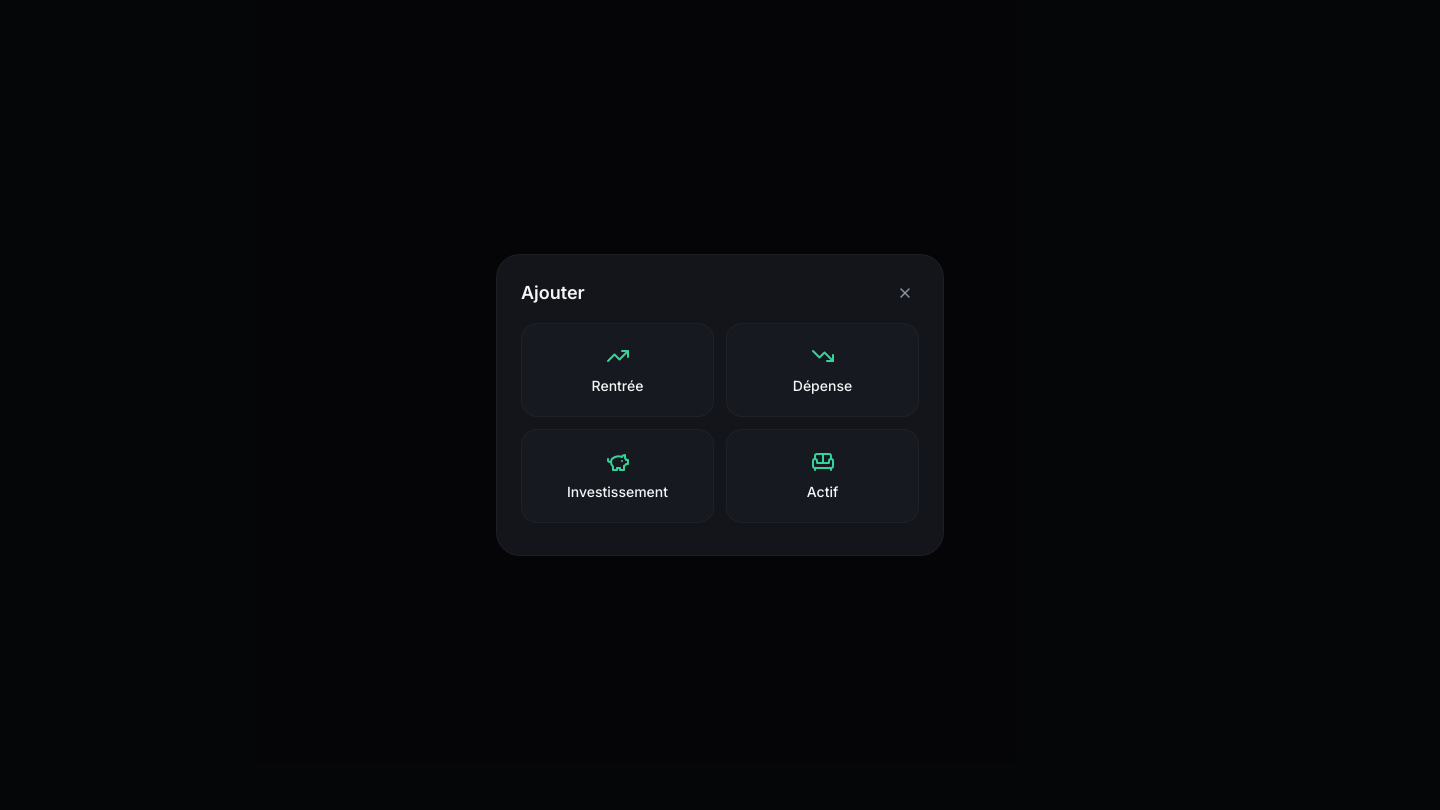
Test: AddMovementSheet › montre le solde du compte avant et apres le mouvement
Step 1. Click the button "Dépense" → coordinates (822, 370), box [726,323,919,417]
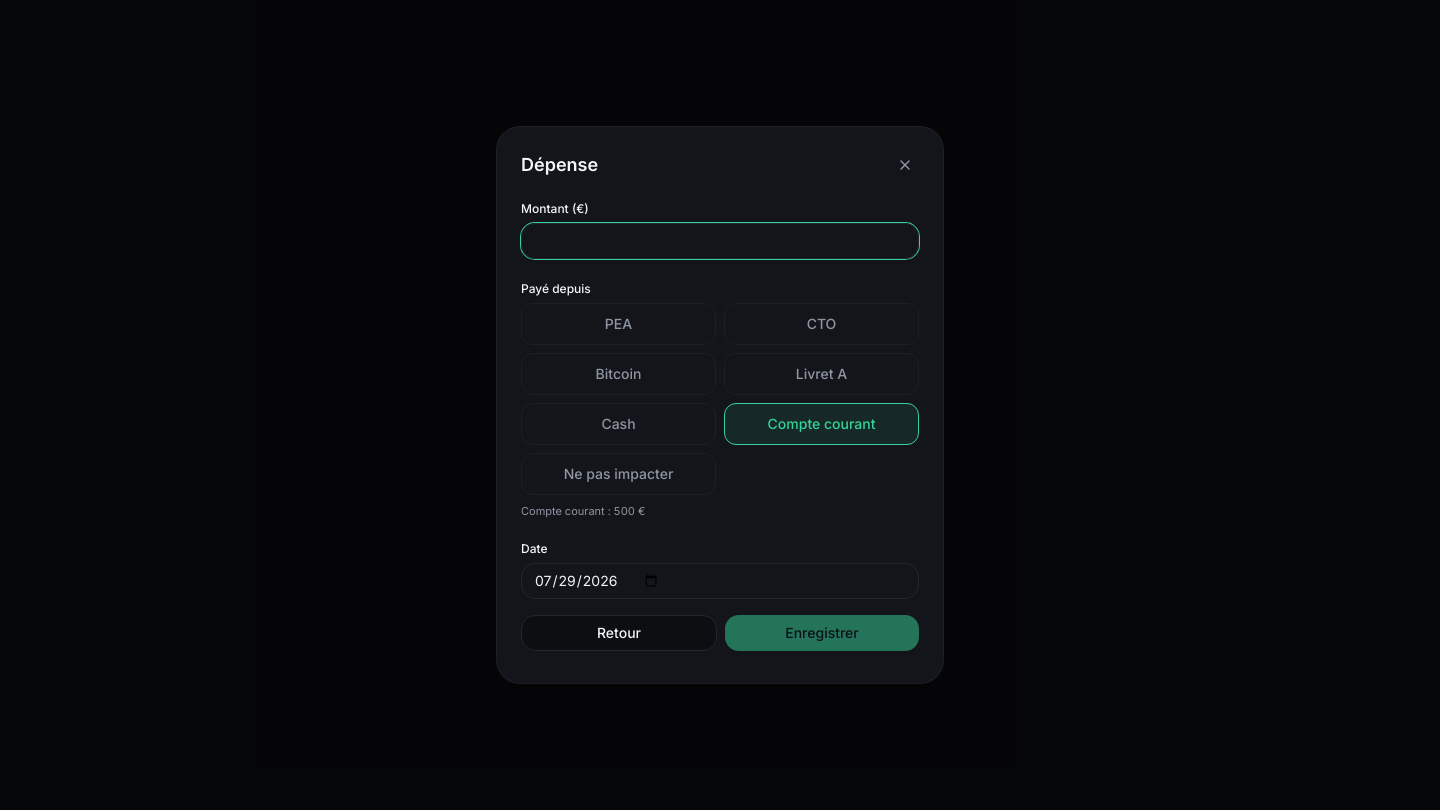
Step 2. Type "60" into the field labelled "Montant (€)" → coordinates (720, 241), box [521,223,919,259]
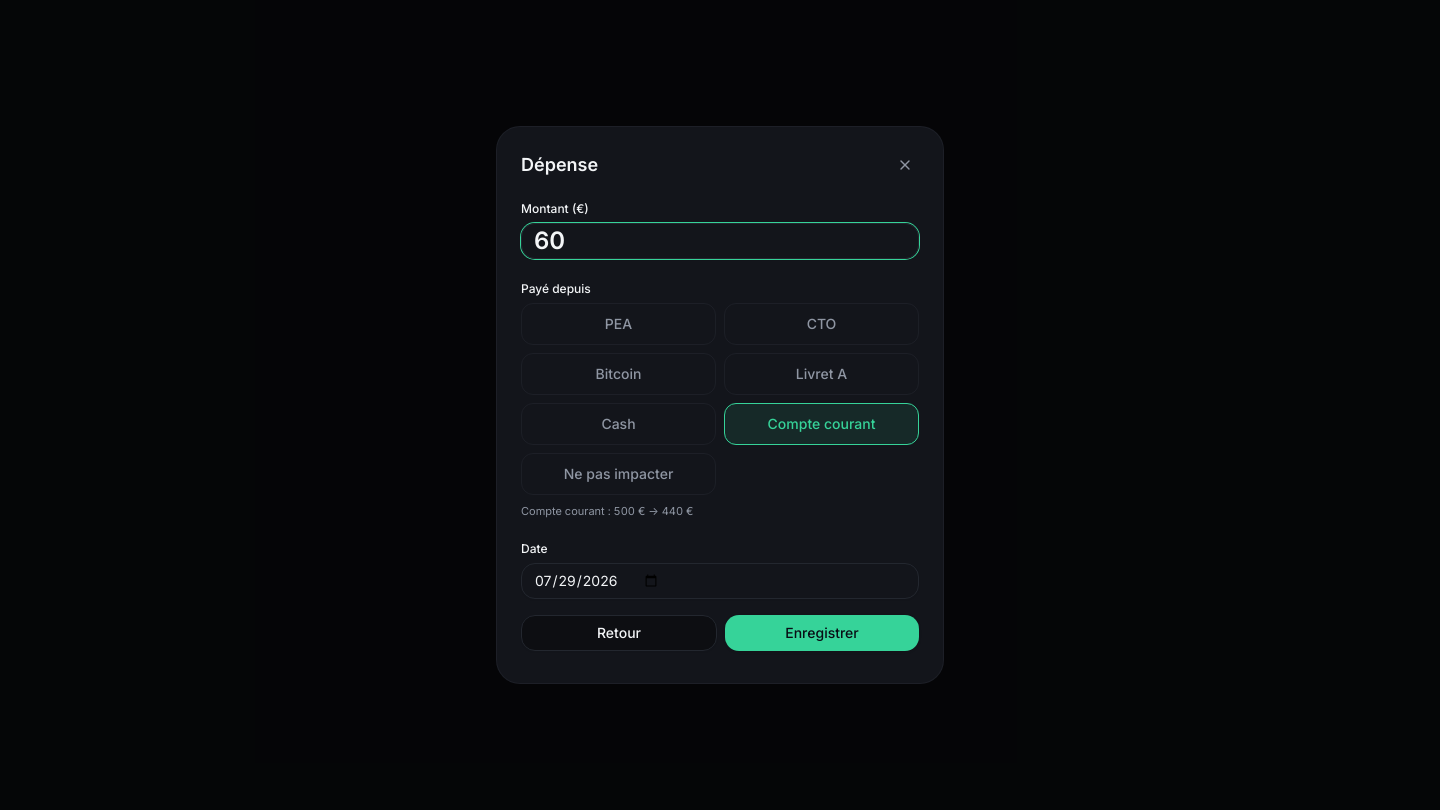
Now the text "Compte courant : 500 € → 440 €" is shown, box [521,504,693,518]
